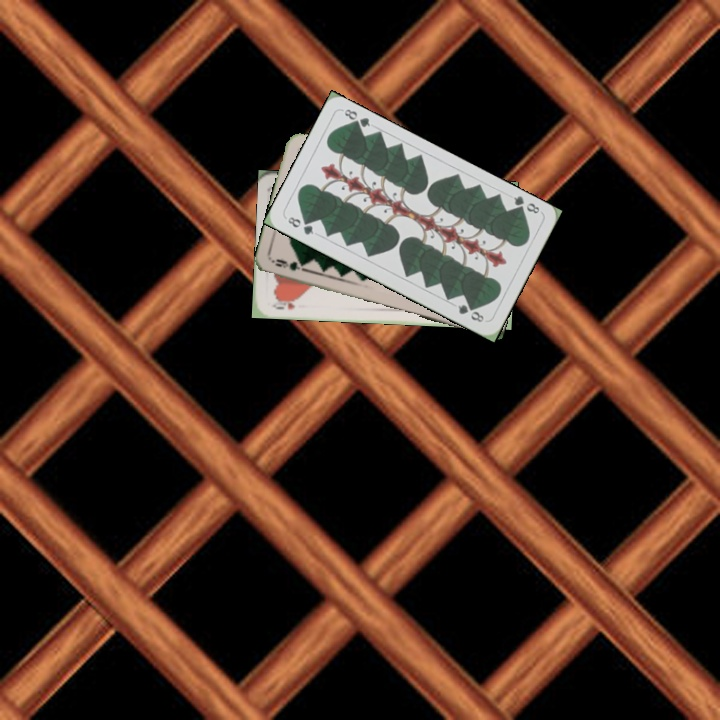G8: (509, 192, 542, 217), (284, 213, 316, 237)
G9: (269, 255, 309, 274)
HO: (268, 295, 302, 312)
